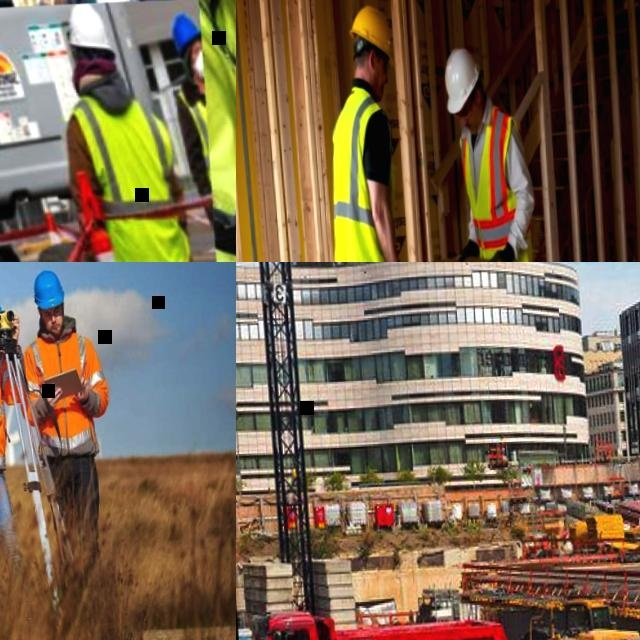Hardhat: (64, 0, 114, 57), (441, 46, 480, 113), (350, 7, 394, 63), (31, 269, 64, 310), (169, 12, 199, 55)
Mask: (190, 52, 202, 79)
NO-Mask: (372, 73, 388, 102), (45, 322, 62, 336), (468, 116, 479, 136)
Person: (56, 0, 198, 262), (13, 268, 117, 582), (314, 3, 426, 262), (446, 44, 554, 262), (0, 282, 32, 601), (166, 11, 212, 226)
Safety Cone: (87, 223, 136, 262)
Safety Vest: (63, 90, 194, 262), (318, 91, 402, 262), (456, 97, 537, 262), (196, 0, 236, 262), (19, 330, 107, 448)
machinery: (239, 597, 516, 640), (507, 589, 640, 640)
